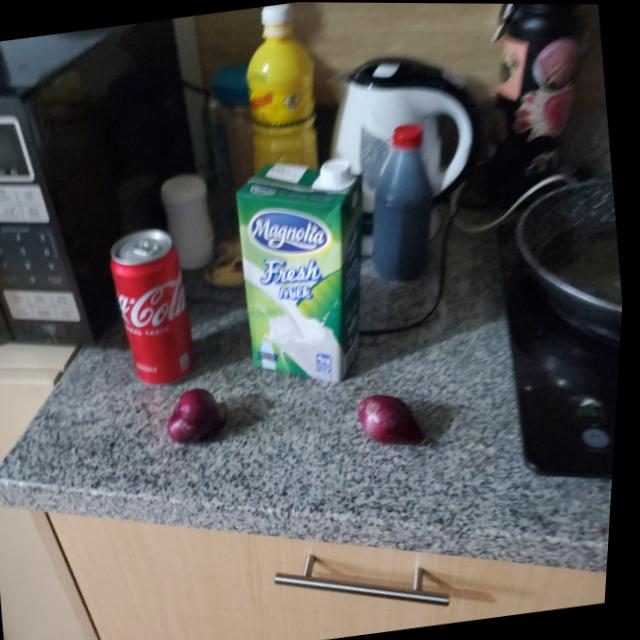coke: (102, 219, 204, 390)
milk: (227, 149, 398, 388)
onion: (356, 385, 436, 454), (166, 382, 234, 444)
